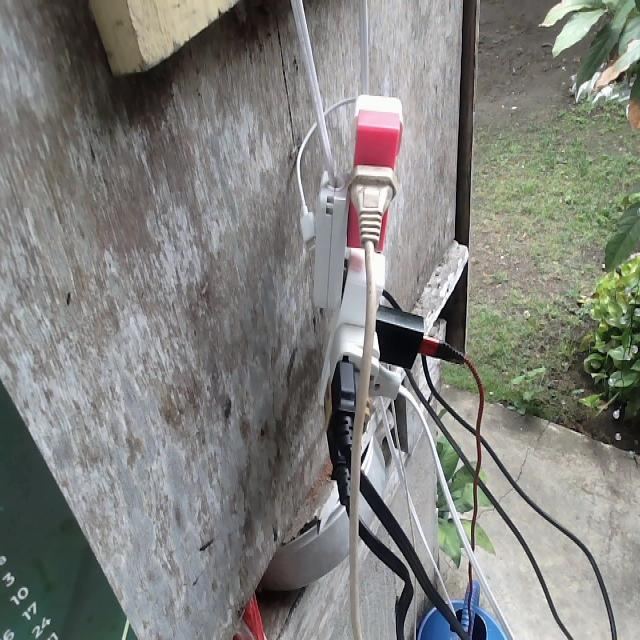-: (314, 93, 427, 495)
